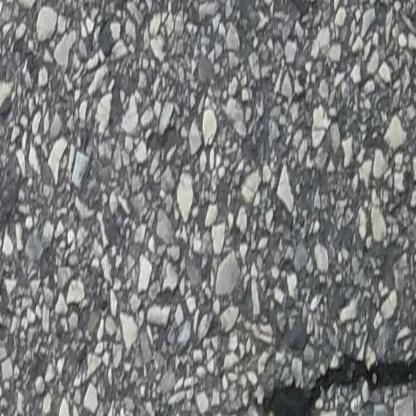Cracks: (263, 350, 416, 416)
